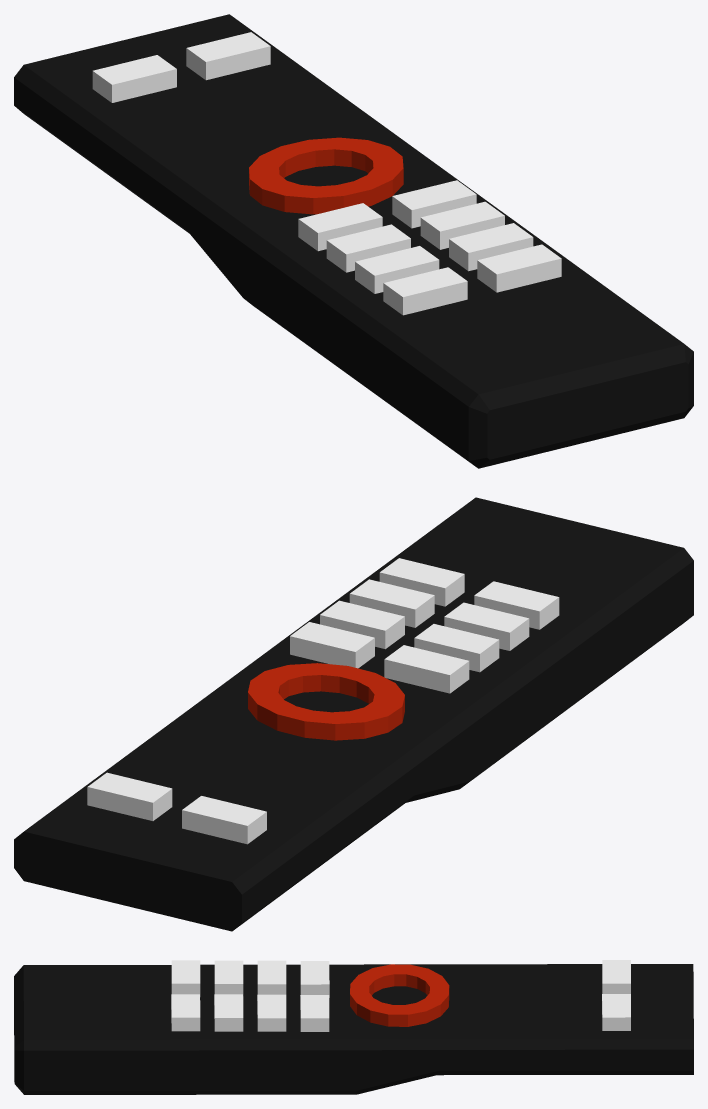
File: ELT0110046.fbx
3 views of the same model, one above another, from view 1: azimuth 30°, elevation 25°; view 2: azimuth 150°, elevation 25°; view 3: azimuth 270°, elevation 25° (orthographic). The views are drawn at different scales.
Visible parts, largest first — view 1: smELT0110046; view 2: smELT0110046; view 3: smELT0110046.
Boxes of the visible parts, x1=… form: smELT0110046: x1=14, y1=14, x2=693, y2=468; smELT0110046: x1=14, y1=497, x2=693, y2=931; smELT0110046: x1=14, y1=960, x2=693, y2=1094.
Size of the model in its own units: 9.37 by 3.64 by 32.49.
1 material, 1 textured.
